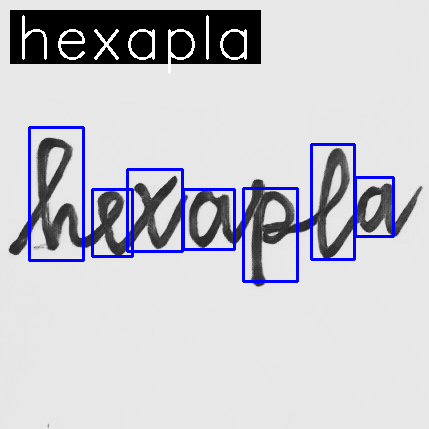a: (186, 188, 235, 249), (353, 180, 401, 238)
e: (91, 187, 128, 257)
h: (31, 135, 84, 254)
l: (312, 144, 352, 264)
p: (247, 177, 299, 292)
x: (129, 173, 181, 253)
